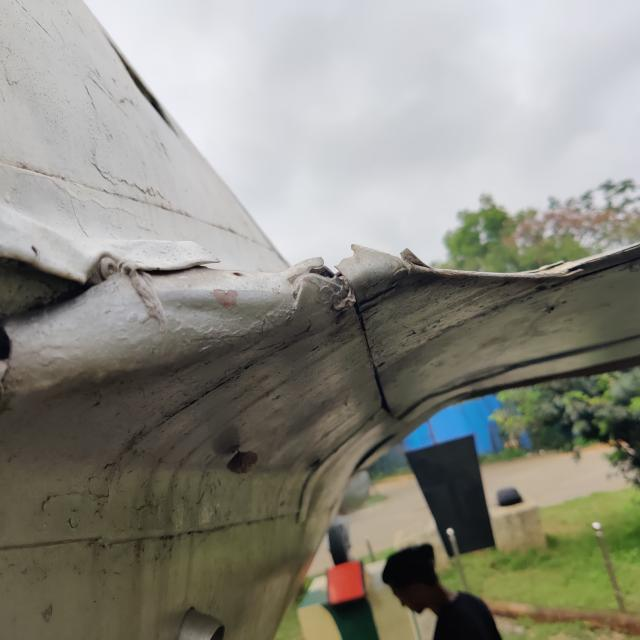crack: (346, 220, 450, 288), (286, 243, 363, 307)
